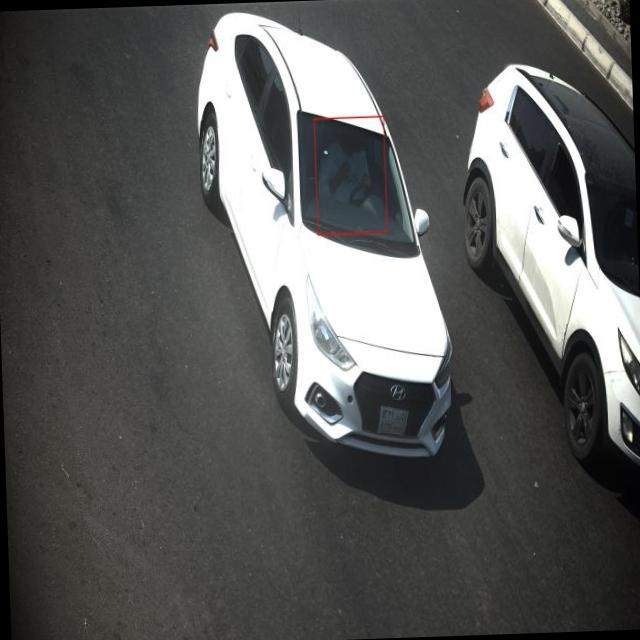person_without_seatbelt: (316, 140, 390, 221)
